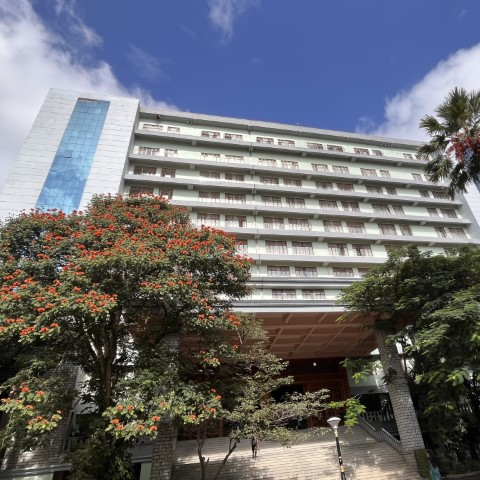Central Block: (23, 76, 480, 480)
